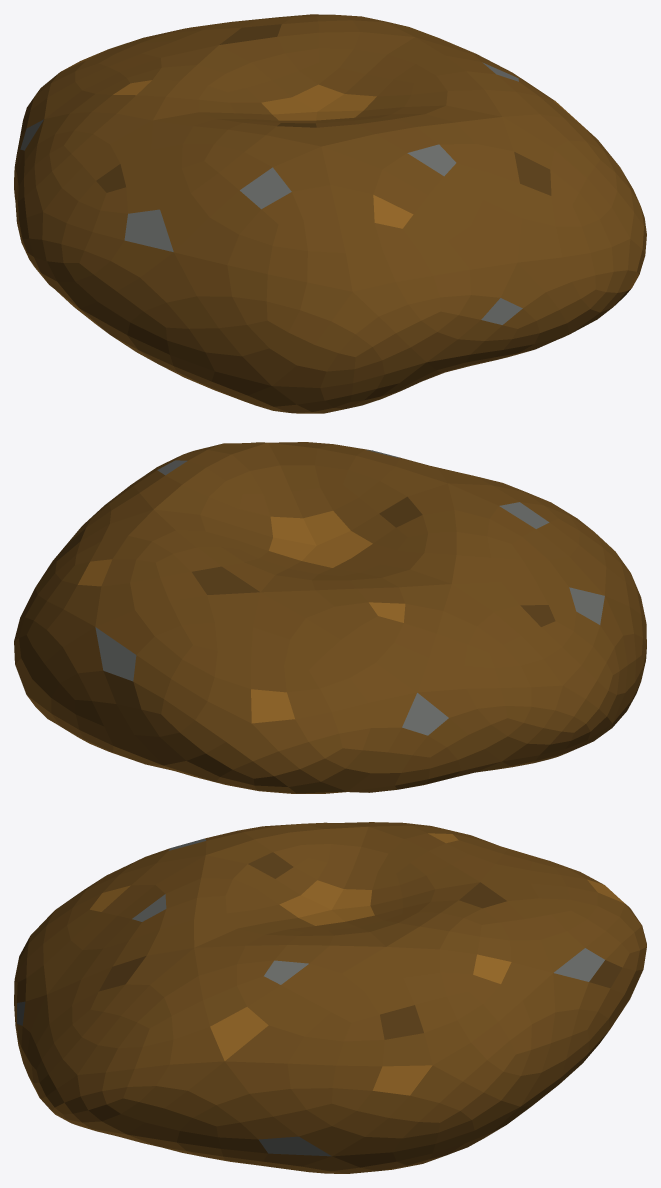
The model's file is zollasecca.glb.
3 views of the same model, one above another, from view 1: azimuth 30°, elevation 25°; view 2: azimuth 150°, elevation 25°; view 3: azimuth 270°, elevation 25° (orthographic). The views are drawn at different scales.
Visible parts, largest first — view 1: Icosphere; view 2: Icosphere; view 3: Icosphere.
Part boxes in pixels (<box>): Icosphere: <box>14,14,646,413</box>; Icosphere: <box>14,442,646,793</box>; Icosphere: <box>14,822,646,1173</box>.
Bounding box in the file's own units: 3.15 × 1.22 × 3.43.
